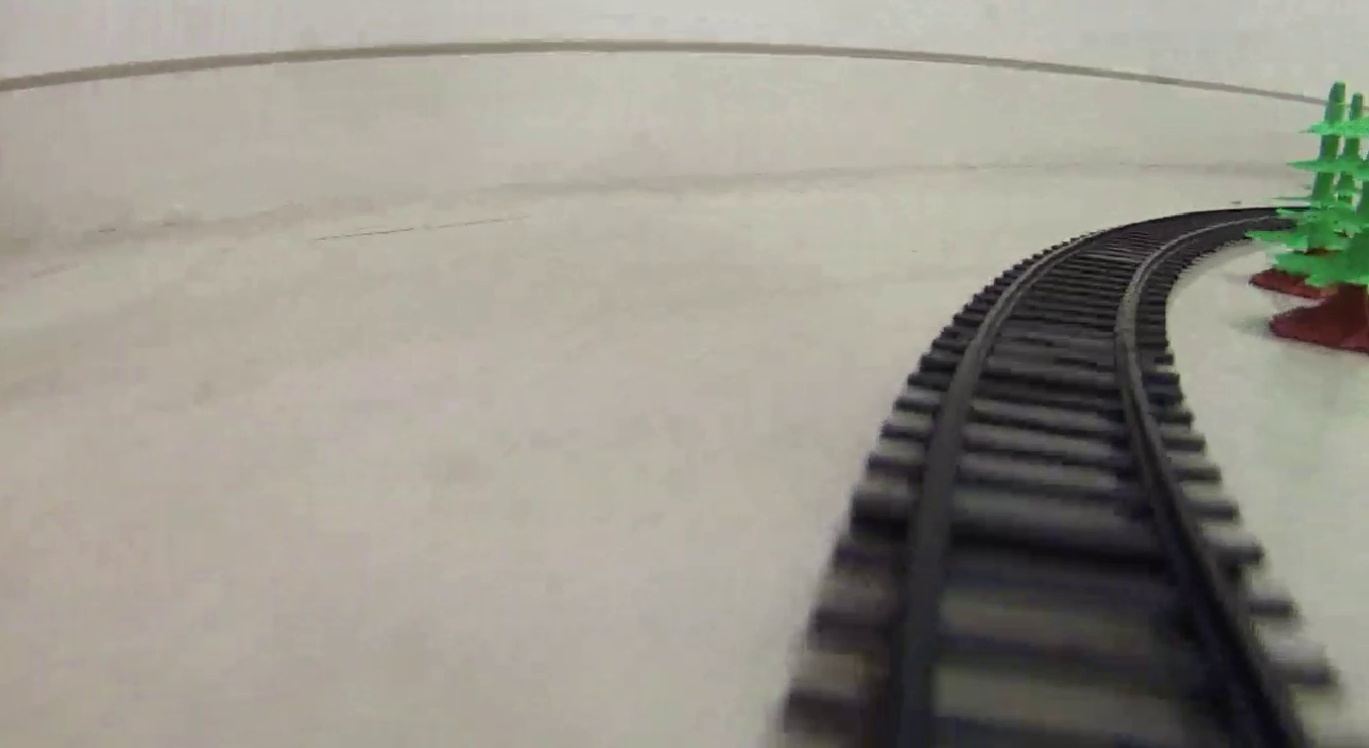tree: (1250, 80, 1361, 300)
